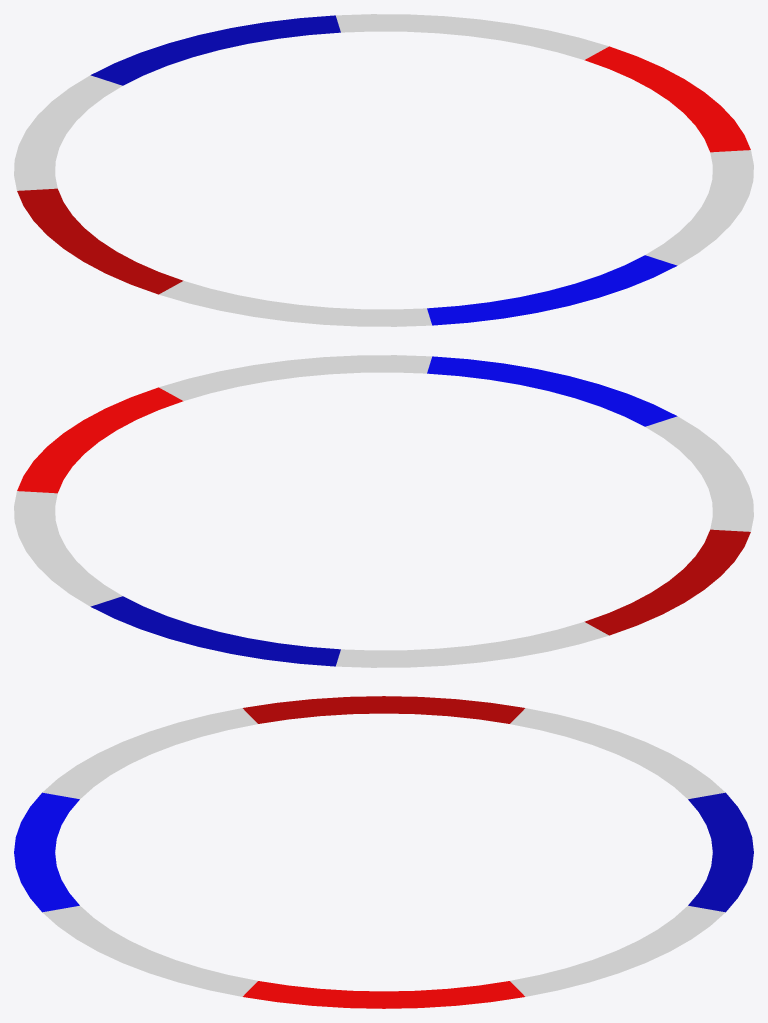
Rendered from snwe.glb.
3 renders of one model, top to bottom at view 1: azimuth 30°, elevation 25°; view 2: azimuth 150°, elevation 25°; view 3: azimuth 270°, elevation 25°, orthographic.
Visible parts, largest first — view 1: SOUTH-WEST, NORTH-EAST, SOUTH, NORTH, WEST, EAST, SOUTH-EAST, NORTH-WEST; view 2: SOUTH-EAST, NORTH-WEST, SOUTH, NORTH, WEST, EAST, SOUTH-WEST, NORTH-EAST; view 3: WEST, EAST, SOUTH-WEST, SOUTH-EAST, NORTH-WEST, NORTH-EAST, SOUTH, NORTH.
Boxes of the visible parts, x1,y1,x2,y2 form: SOUTH-WEST: (159, 281, 432, 326); NORTH-EAST: (335, 14, 608, 59); SOUTH: (427, 255, 677, 325); NORTH: (90, 15, 340, 85); WEST: (17, 188, 183, 294); EAST: (584, 46, 750, 152); SOUTH-EAST: (645, 150, 753, 265); NORTH-WEST: (14, 75, 122, 190); SOUTH-EAST: (159, 355, 432, 400); NORTH-WEST: (335, 622, 608, 667); SOUTH: (427, 356, 677, 426); NORTH: (90, 596, 340, 666); WEST: (584, 529, 750, 635); EAST: (17, 387, 183, 493); SOUTH-WEST: (645, 416, 753, 531); NORTH-EAST: (14, 491, 122, 606); WEST: (243, 696, 524, 723); EAST: (243, 981, 524, 1008); SOUTH-WEST: (42, 708, 257, 799); SOUTH-EAST: (42, 905, 257, 996); NORTH-WEST: (510, 708, 725, 799); NORTH-EAST: (510, 905, 725, 996); SOUTH: (14, 792, 79, 912); NORTH: (688, 792, 753, 912).
Size of the model in its own units: 9 by 0 by 9.
